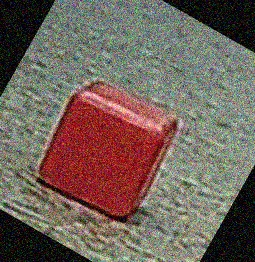red_cube: (33, 72, 190, 227)
